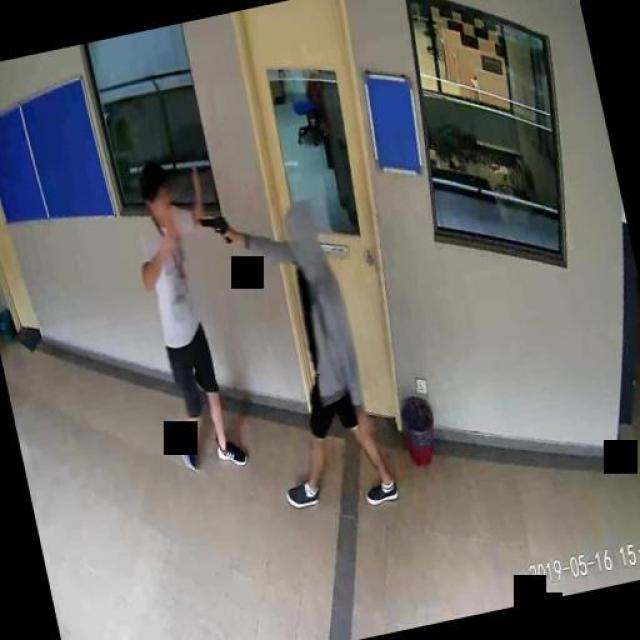gun: (196, 209, 232, 246)
